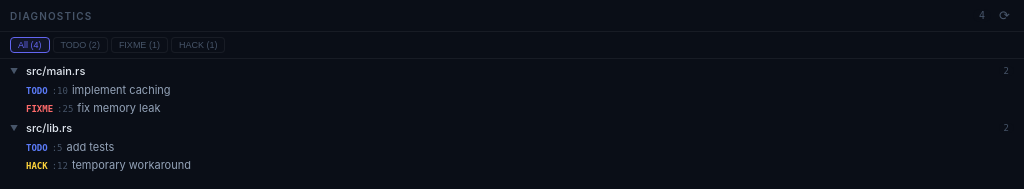
Test: TodoPanel › collapses and expands file groups
expect the text "implement caching" is shown: met, box top-left (72, 83), bottom-right (171, 97)
# Click file header to collapse
Click the text "src/main.rs".
click(56, 71)  # box top-left (26, 64), bottom-right (85, 78)
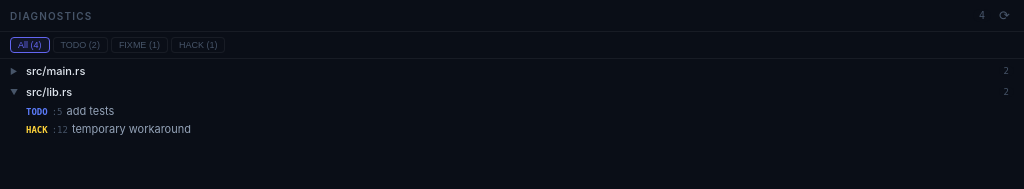
expect the text "add tests" is shown: met, box top-left (66, 104), bottom-right (114, 118)
expect the text "implement caching" is gone: met
expect the text "fix memory leak" is gone: met
# Click again to expand
Click the text "src/main.rs".
click(56, 71)  # box top-left (26, 64), bottom-right (85, 78)
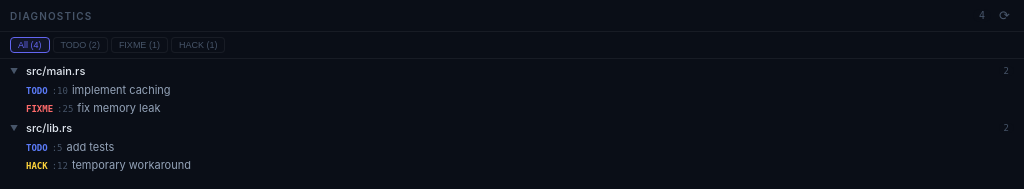
expect the text "implement caching" is shown: met, box top-left (72, 83), bottom-right (171, 97)
